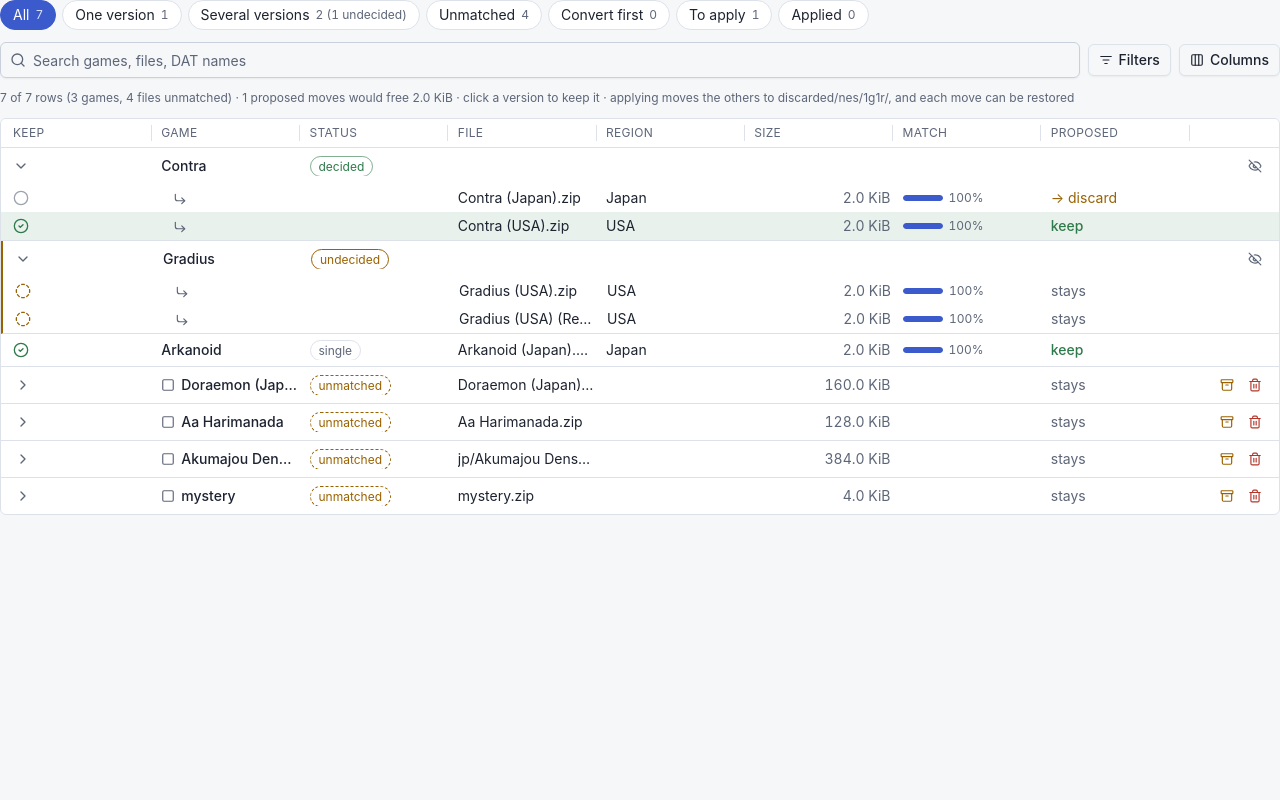
it: deleting a file asks for the folder label first
The width and height of the screenshot is (1280, 800).
Later steps or results of the test are not shown.
Click the 1st button named "Delete Doraemon (Japan) (Rev 1).zip": (1255, 385) [1243,373,1267,397]
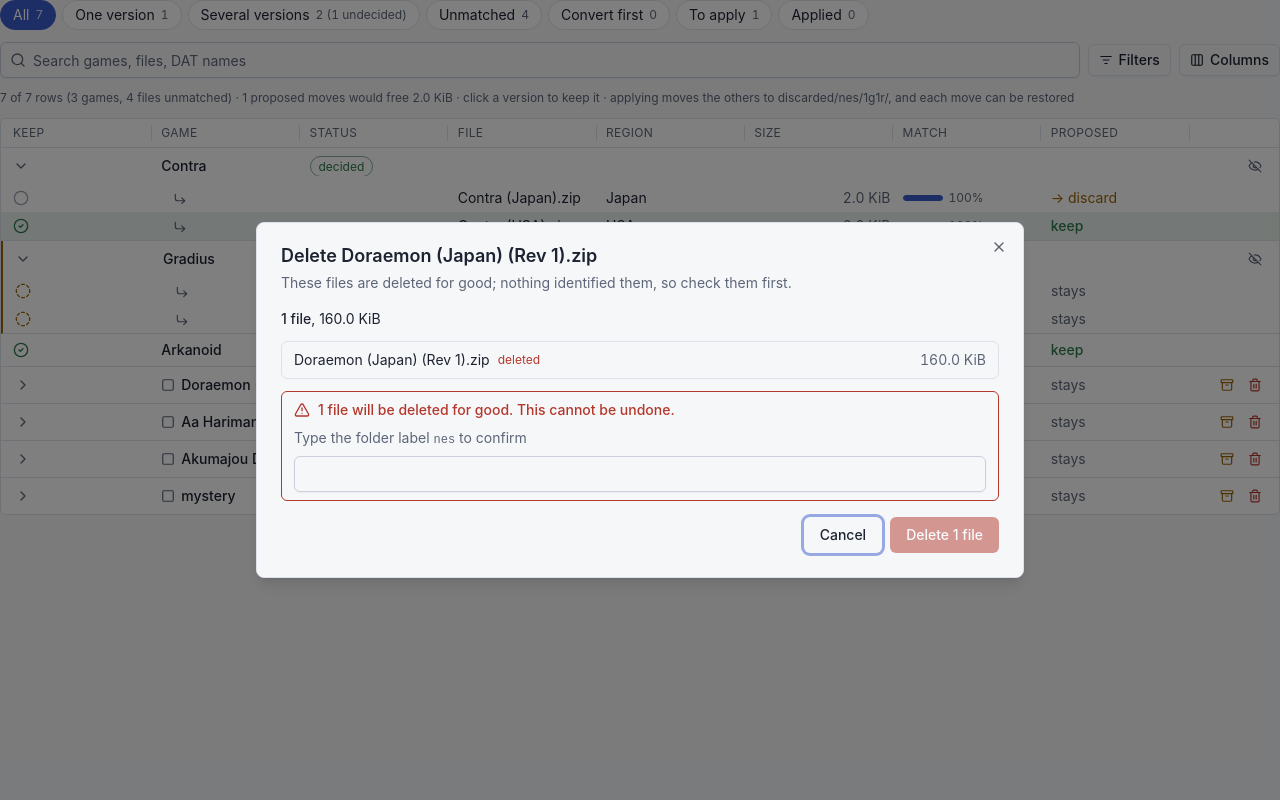
Result: the button "Delete 1 file" is disabled at [890,517,999,553]
